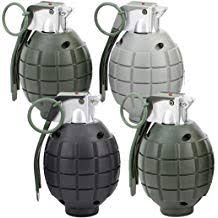e1: (122, 92, 215, 218), (27, 91, 119, 218), (95, 2, 183, 119), (2, 1, 93, 110)
